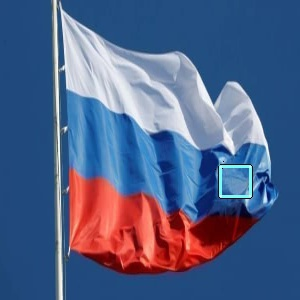square: (217, 164, 253, 200)
